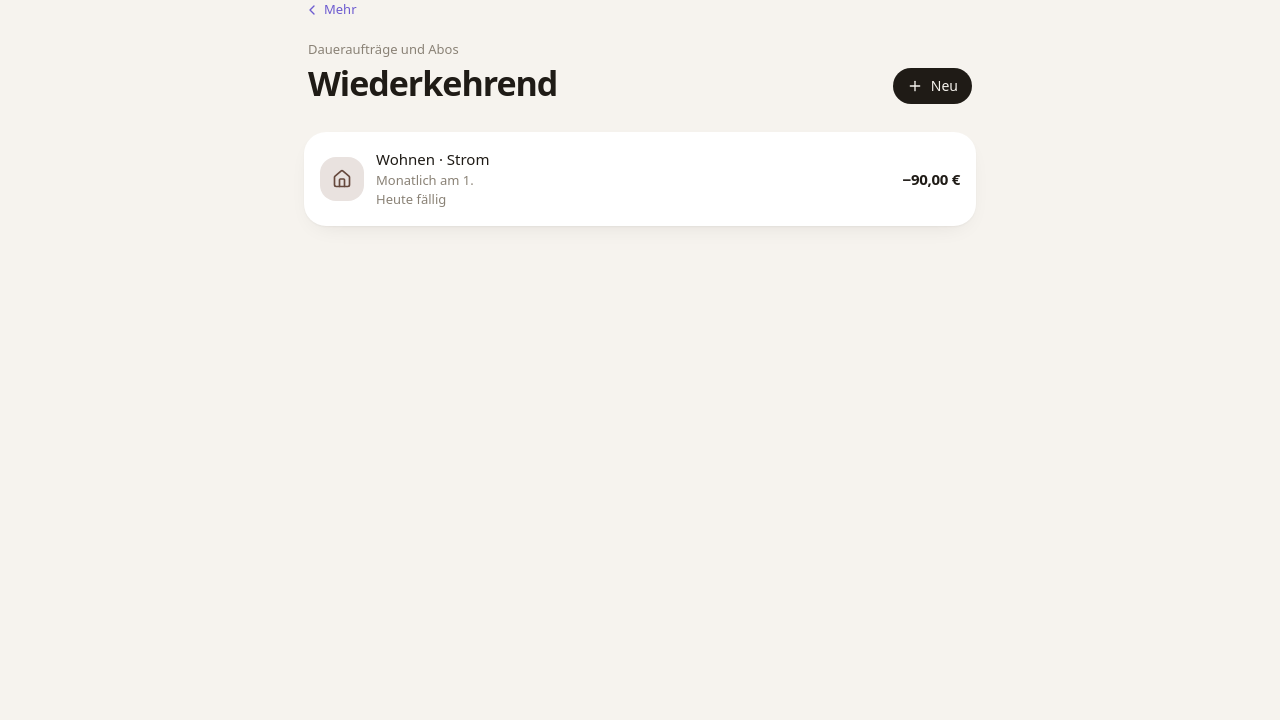
the rule editor offers subcategory chips; a chip only sets the value
Later steps or results of the test are not shown.
Click the button "Wohnen · Strom Monatlich am 1. Heute fällig −90,00 €" at (342,179), box [304,132,976,226]
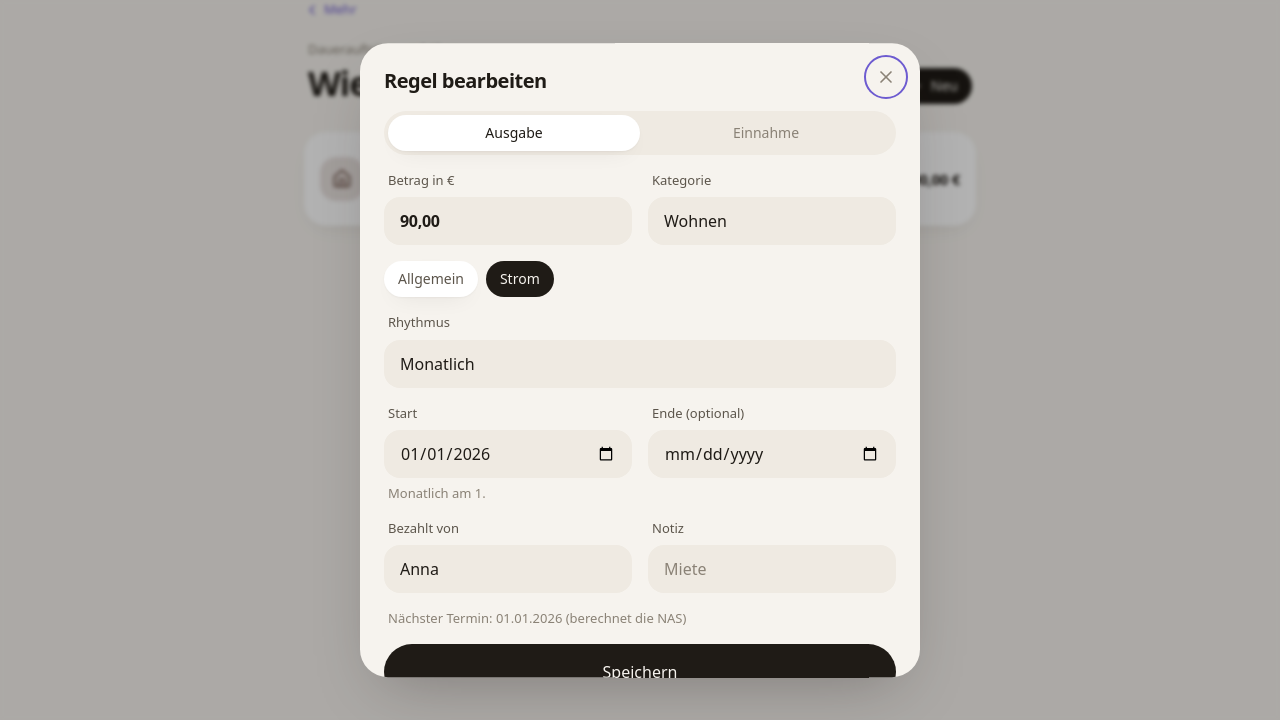
Now the dropdown labelled "Kategorie" shows "Wohnen", box [648,197,896,245]
